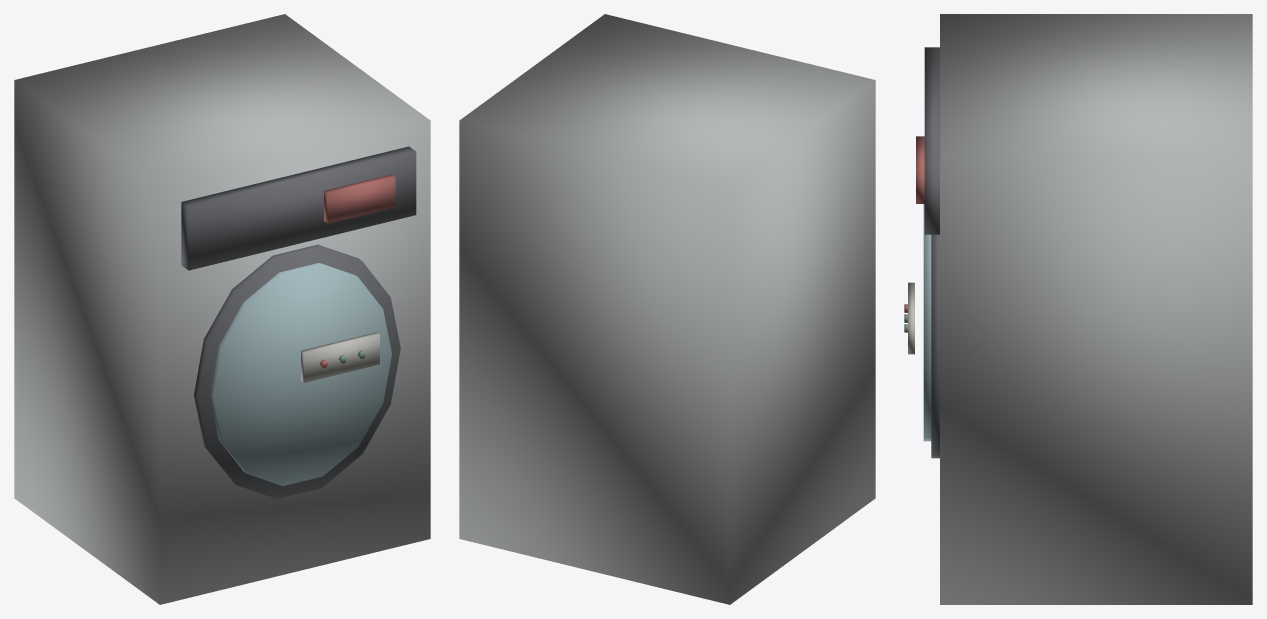
File: industrial_dryer__tall.glb
3 renders of one model, left to right at view 1: azimuth 30°, elevation 25°; view 2: azimuth 150°, elevation 25°; view 3: azimuth 270°, elevation 25°, orthographic. The views are drawn at different scales.
Parts seen in each view (by area): view 1: world; view 2: world; view 3: world.
Part boxes in pixels (x1,y1,x2,y2): world: (14, 14, 430, 604); world: (459, 14, 875, 604); world: (904, 14, 1252, 604).
Bounding box in the file's own units: 0.88 × 1.3 × 0.9135.
